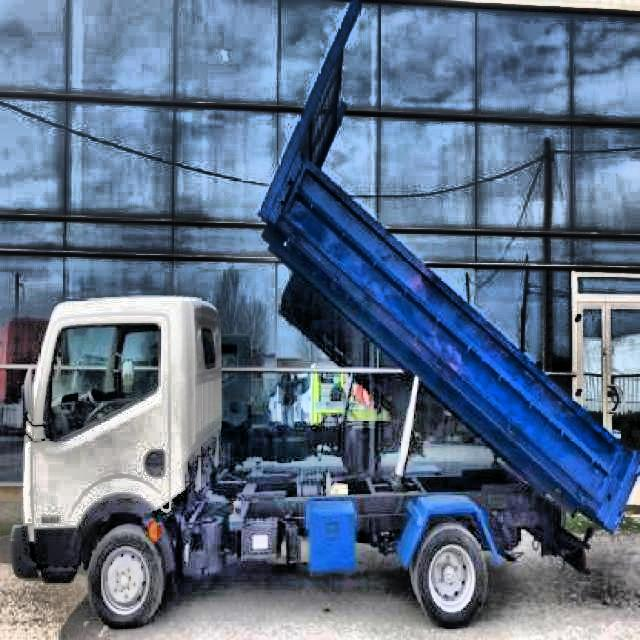dump_truck: (7, 0, 640, 631)
